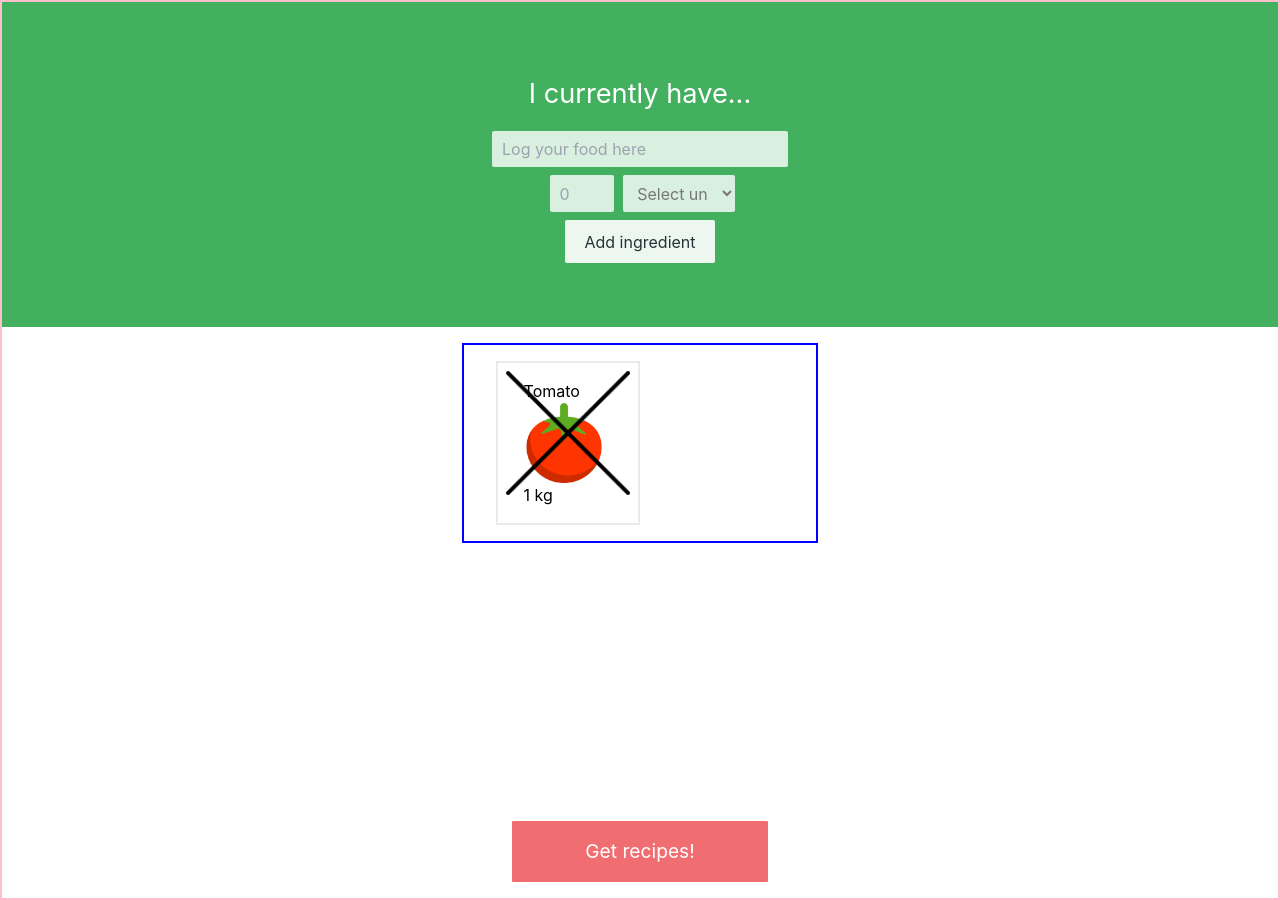
Test case: AddIngredients › removes an ingredient from the UI without writing to localStorage
The width and height of the screenshot is (1280, 900).
Expected: the heading "Tomato" is shown, x1=524 y1=381 x2=580 y2=401
Click the button named "Remove Tomato".
click(568, 433)  # box x1=506 y1=371 x2=630 y2=495
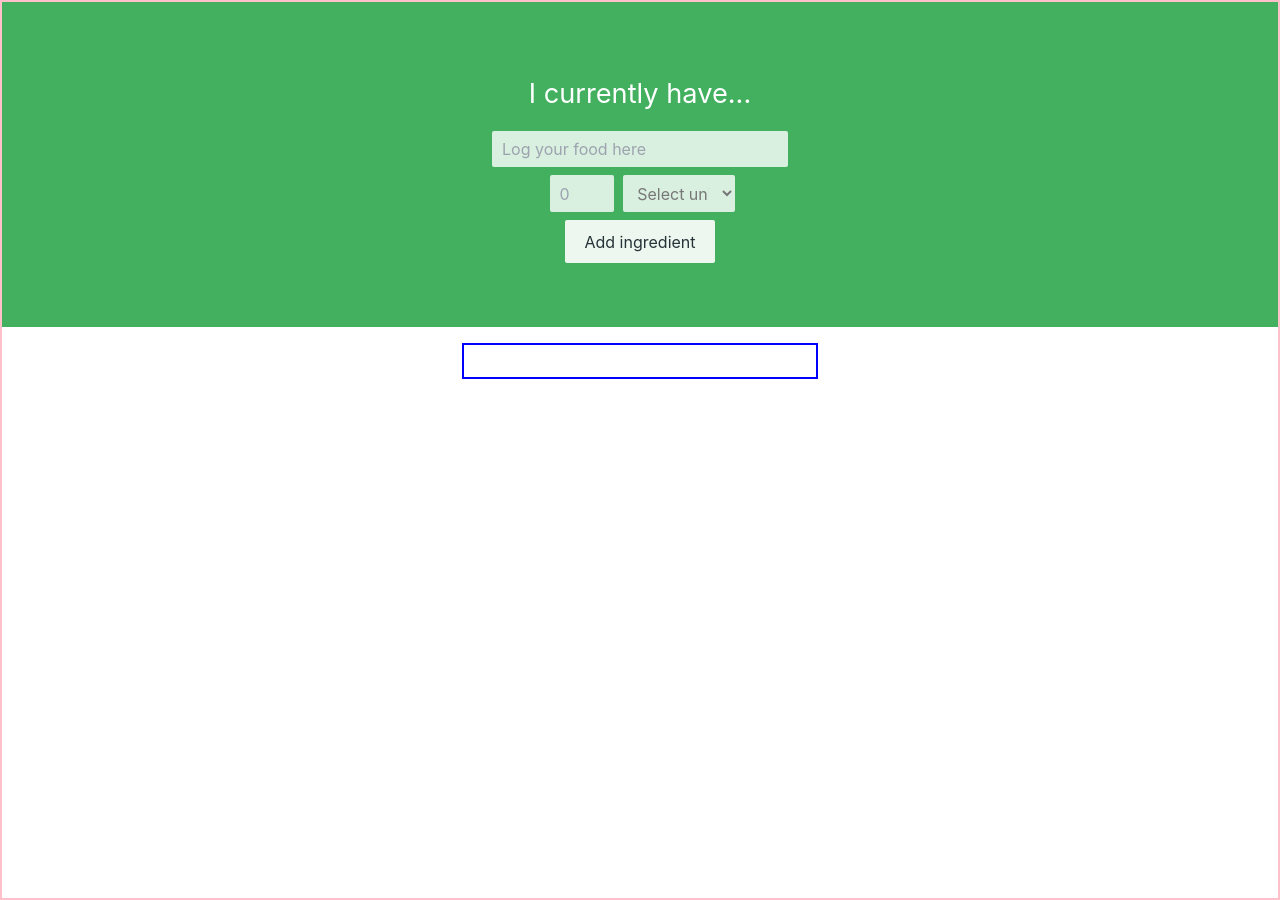
Expected: the heading "Tomato" is gone
